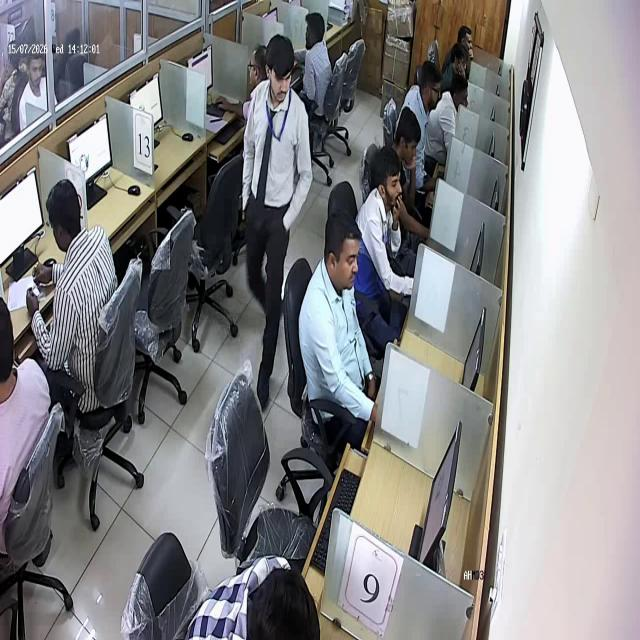paper-chit: (28, 284, 44, 298)
